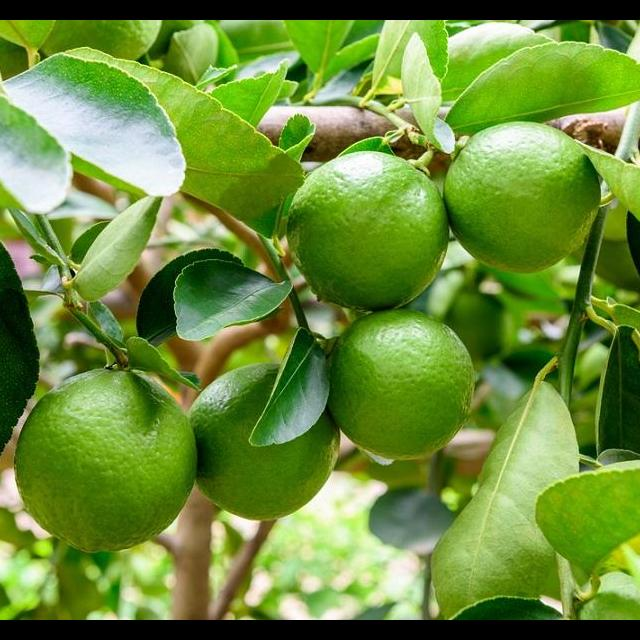lime: (14, 369, 195, 555), (288, 155, 448, 312), (443, 122, 603, 275), (193, 364, 337, 522), (330, 312, 476, 463)
